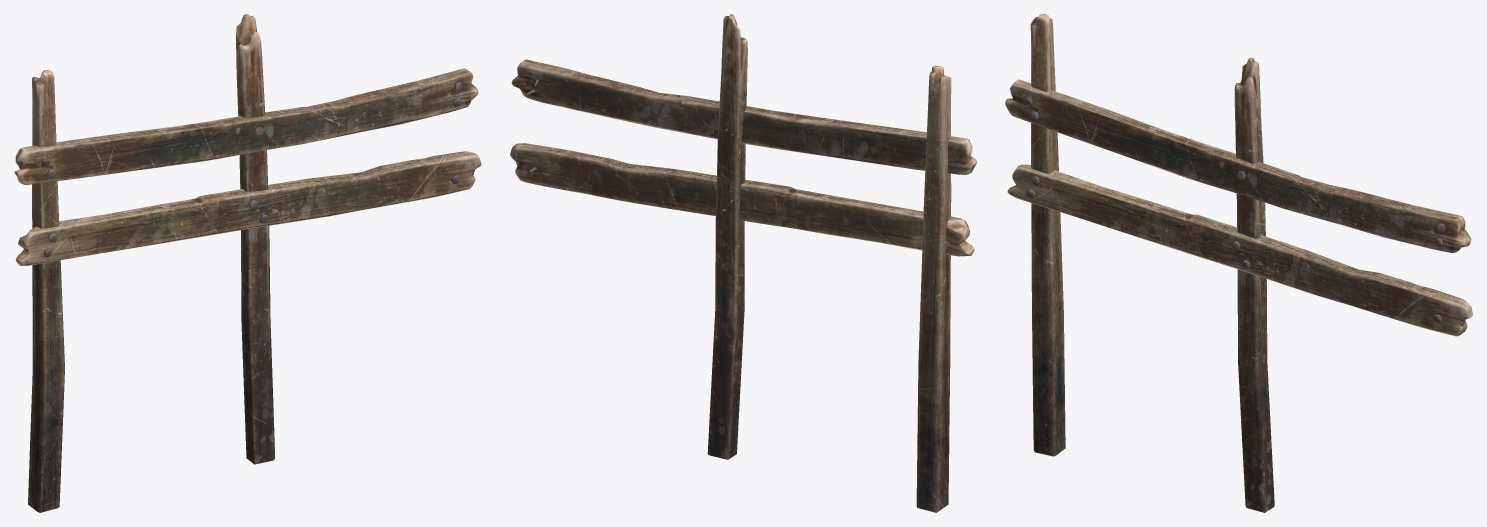
The picture shows the model from 3 angles, left to right: view 1: azimuth 30°, elevation 25°; view 2: azimuth 150°, elevation 25°; view 3: azimuth 330°, elevation 25°; orthographic projection.
Parts seen in each view (by area): view 1: SM_Wooden_Fence_01v3_LOD0; view 2: SM_Wooden_Fence_01v3_LOD0; view 3: SM_Wooden_Fence_01v3_LOD0.
Boxes of the visible parts, x1,y1,x2,y2 form: SM_Wooden_Fence_01v3_LOD0: (14, 14, 481, 512); SM_Wooden_Fence_01v3_LOD0: (510, 14, 976, 512); SM_Wooden_Fence_01v3_LOD0: (1005, 14, 1472, 512).
Bounding box in the file's own units: 1.83 × 1.67 × 0.1304.
1 material, 1 textured.
